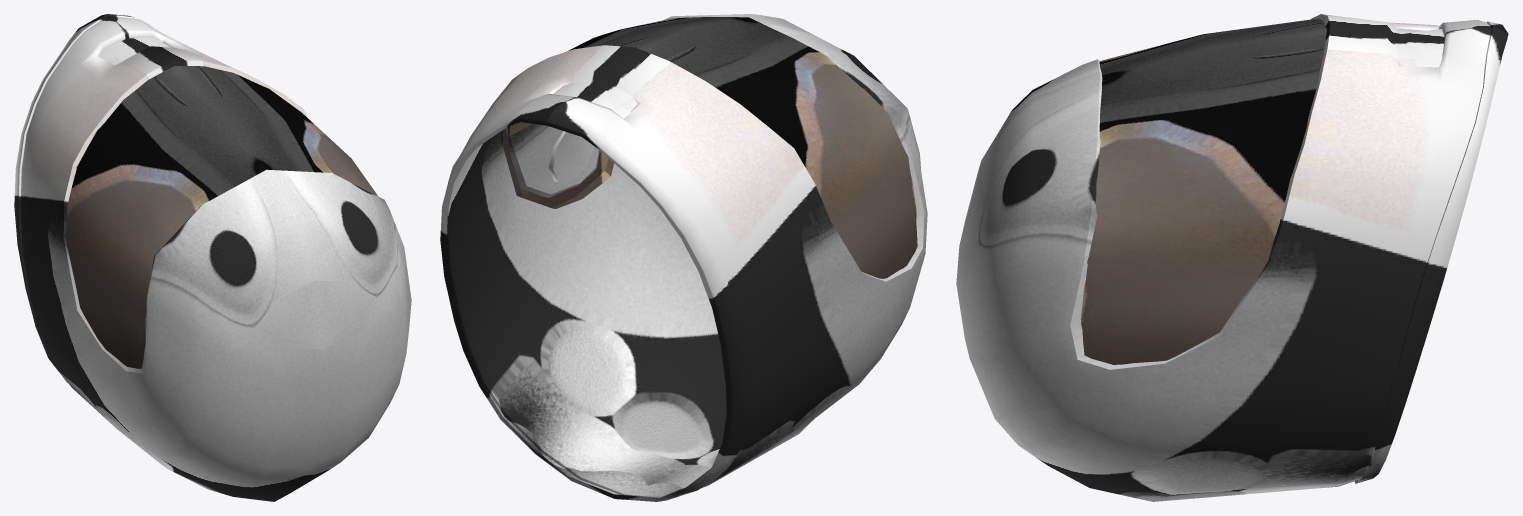
The model's file is Headwear31.glb.
3 renders of one model, left to right at view 1: azimuth 30°, elevation 25°; view 2: azimuth 150°, elevation 25°; view 3: azimuth 270°, elevation 25°, orthographic. The views are drawn at different scales.
Parts seen in each view (by area): view 1: Headwear31; view 2: Headwear31; view 3: Headwear31.
Boxes of the visible parts, x1,y1,x2,y2 form: Headwear31: [14, 14, 411, 501]; Headwear31: [440, 14, 927, 501]; Headwear31: [956, 14, 1508, 501].
Bounding box in the file's own units: 1.95 × 2.5 × 2.67.
Materials: 2 (2 with a texture image).
